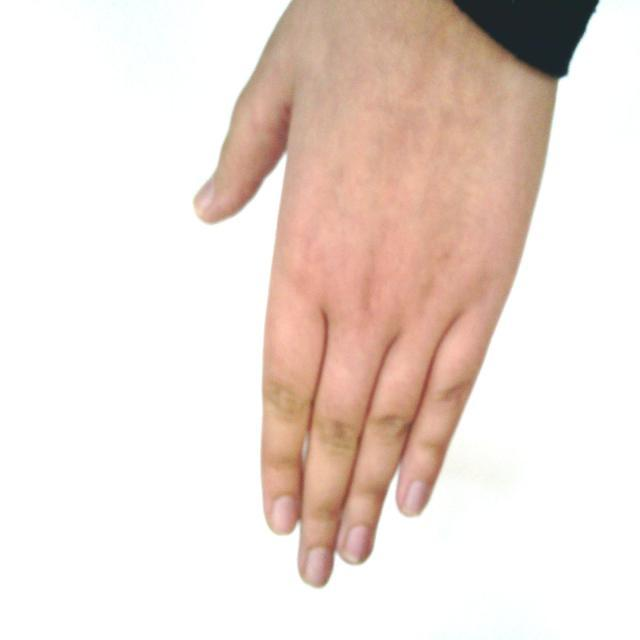Fingernail: (304, 548, 330, 588), (342, 527, 370, 564), (273, 496, 297, 534), (402, 482, 427, 517), (195, 180, 213, 213)
